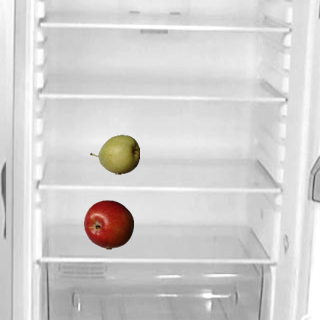Apple Braeburn: (83, 199, 133, 249)
Pear: (89, 129, 139, 179)
